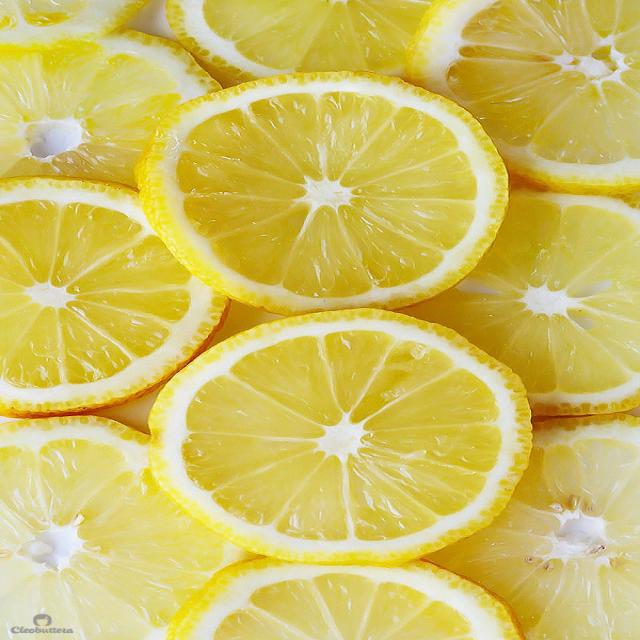lemon: (176, 319, 528, 558), (164, 69, 497, 302), (0, 172, 156, 415), (466, 0, 640, 201), (509, 184, 640, 425), (176, 555, 516, 640)
